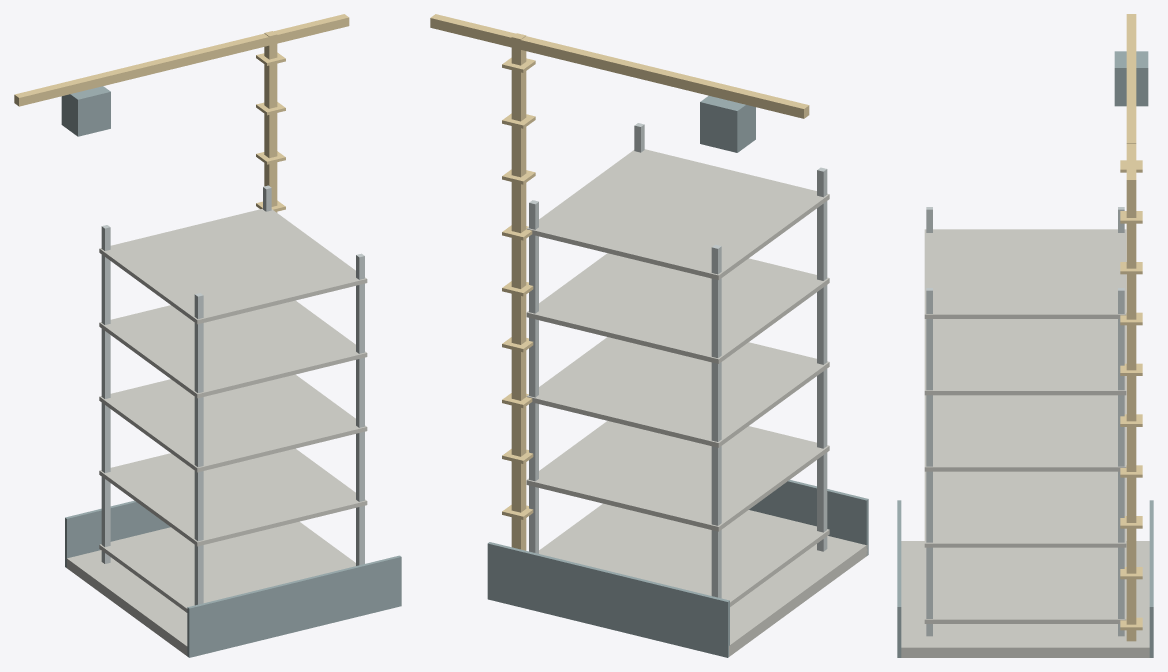
The model's file is remaster_site_1_3.glb.
The picture shows the model from 3 angles, left to right: view 1: azimuth 30°, elevation 25°; view 2: azimuth 150°, elevation 25°; view 3: azimuth 270°, elevation 25°; orthographic projection. The views are drawn at different scales.
Visible parts, largest first — view 1: remaster_site_1_3 stone, remaster_site_1_3 roof, remaster_site_1_3 metal, remaster_site_1_3 gold; view 2: remaster_site_1_3 stone, remaster_site_1_3 roof, remaster_site_1_3 gold, remaster_site_1_3 metal; view 3: remaster_site_1_3 stone, remaster_site_1_3 gold, remaster_site_1_3 metal, remaster_site_1_3 roof.
Boxes of the visible parts, box(x1,y1,x2,y2) form: remaster_site_1_3 stone: box(67, 208, 367, 656); remaster_site_1_3 roof: box(61, 86, 401, 657); remaster_site_1_3 metal: box(101, 185, 364, 605); remaster_site_1_3 gold: box(14, 14, 349, 212); remaster_site_1_3 stone: box(526, 149, 867, 656); remaster_site_1_3 roof: box(487, 96, 868, 657); remaster_site_1_3 gold: box(430, 14, 809, 550); remaster_site_1_3 metal: box(529, 123, 827, 598); remaster_site_1_3 stone: box(901, 229, 1149, 657); remaster_site_1_3 gold: box(1120, 14, 1142, 641); remaster_site_1_3 metal: box(926, 207, 1124, 636); remaster_site_1_3 roof: box(897, 51, 1153, 657).
Bounding box in the file's own units: 14 × 20 × 9.14.
